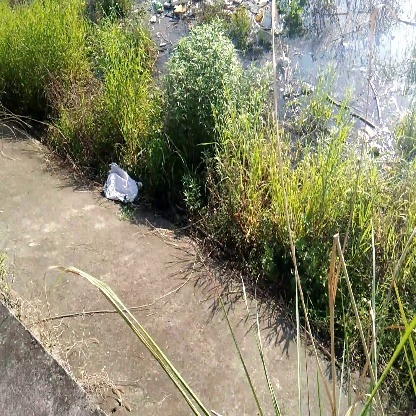plastic-bag: (98, 157, 146, 208)
